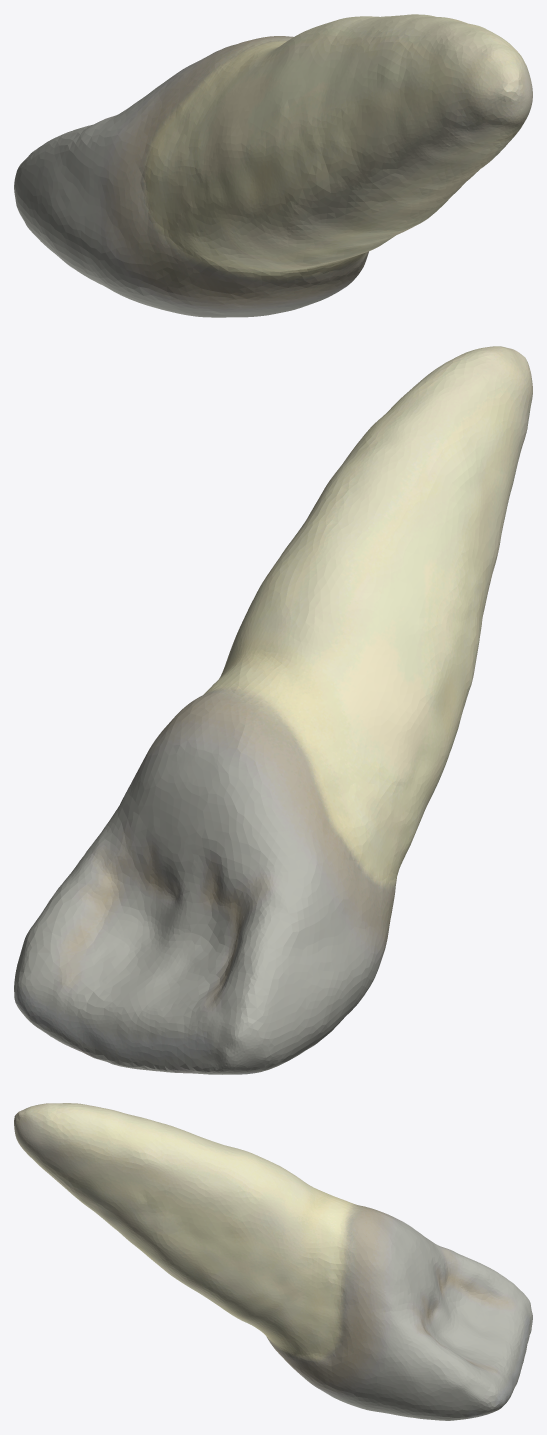
File: 21 - incisivo central superior esquerdo.glb
3 views of the same model, one above another, from view 1: azimuth 30°, elevation 25°; view 2: azimuth 150°, elevation 25°; view 3: azimuth 270°, elevation 25° (orthographic). The views are drawn at different scales.
Parts seen in each view (by area): view 1: 3MFMeshParent_0; view 2: 3MFMeshParent_0; view 3: 3MFMeshParent_0.
Part boxes in pixels (x1,y1,x2,y2): 3MFMeshParent_0: (14,14,532,317); 3MFMeshParent_0: (14,346,532,1074); 3MFMeshParent_0: (14,1103,532,1420).
Size of the model in its own units: 0.2121 by 0.3209 by 0.512.
1 material, 1 textured.
